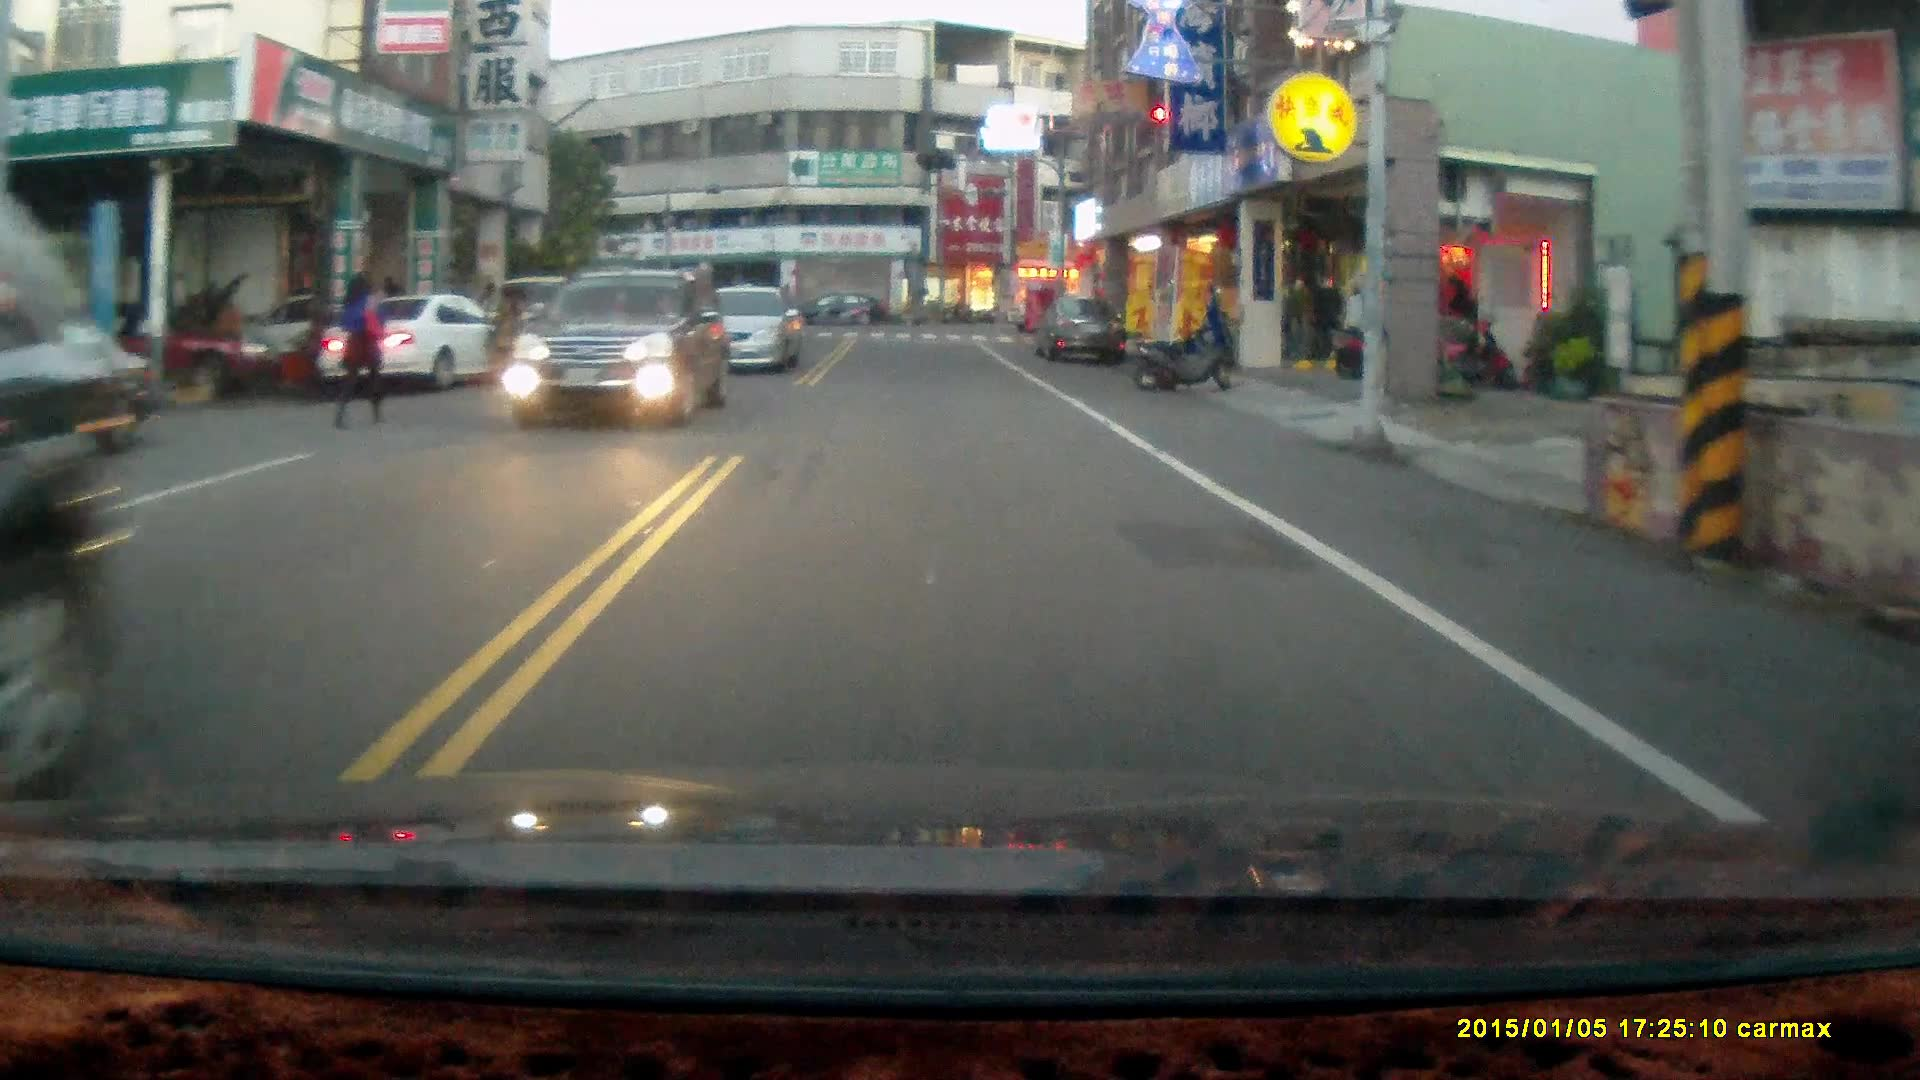pedestrian: (336, 266, 383, 428), (480, 279, 521, 384)
vehicle: (1, 191, 120, 832), (516, 263, 734, 426), (316, 291, 534, 394), (1, 317, 156, 457), (679, 280, 805, 372), (1035, 293, 1131, 368), (791, 290, 895, 330)
